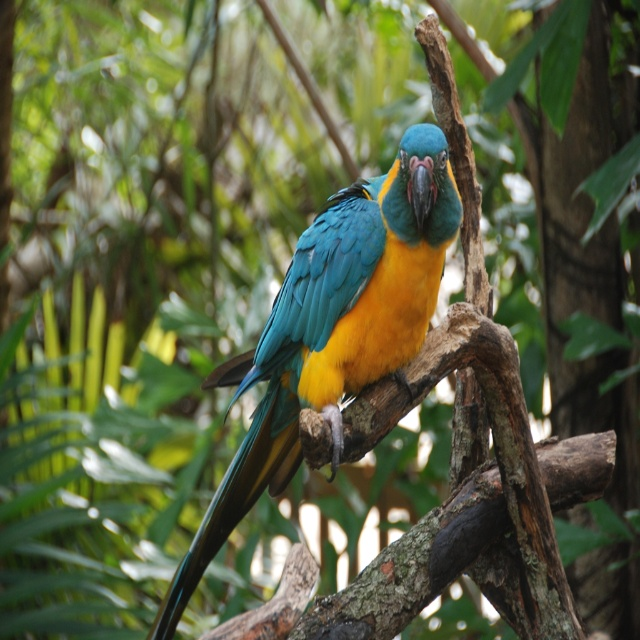Parrot: (147, 125, 467, 639)
